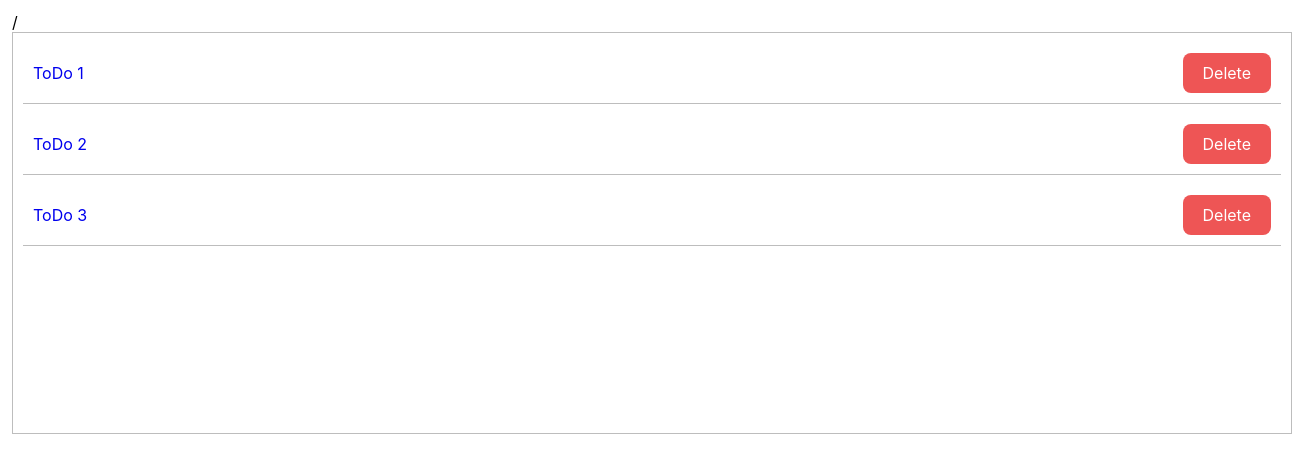
Test case: ToDoList Context › moves to detail page
The width and height of the screenshot is (1292, 451).
Expected: the text "/" is shown, [12,12,18,32]
Click the link "ToDo 2" at (60, 144), box [33,134,87,154]
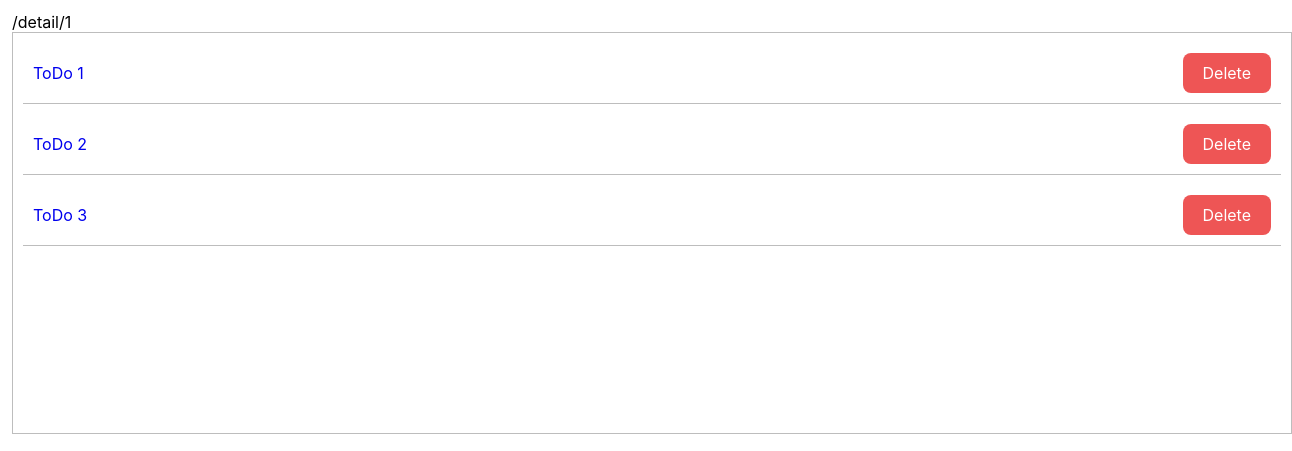
Expected: the text "/" reads "/detail/1", [12,12,71,32]
